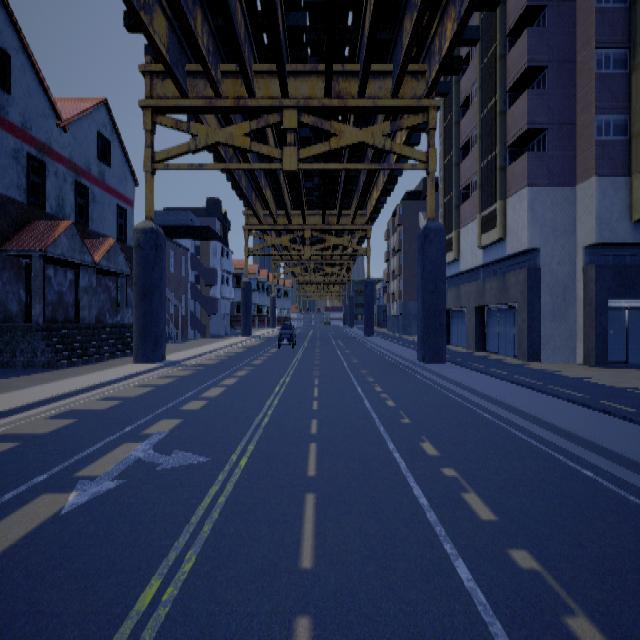vehicle: (274, 317, 297, 350)
